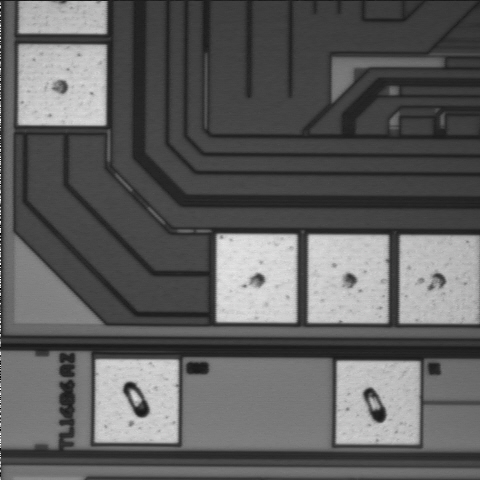pad: (217, 234, 297, 322), (308, 235, 388, 323), (19, 45, 106, 125), (95, 360, 178, 443), (337, 361, 419, 444), (400, 236, 478, 323)
